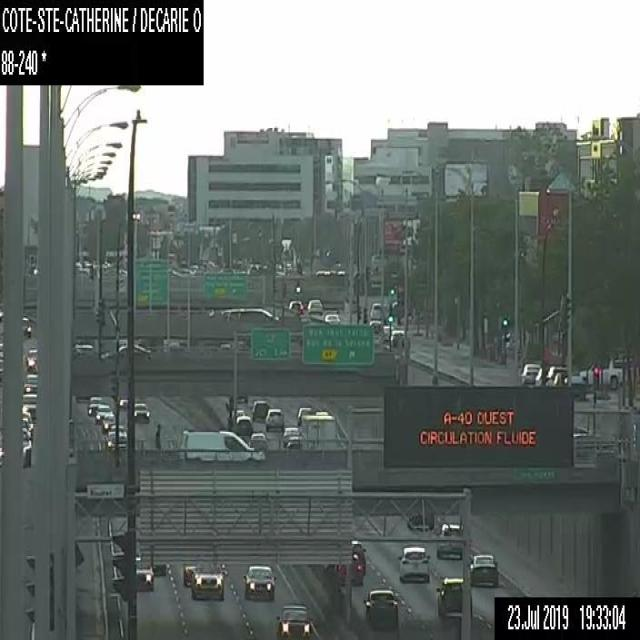pedestrian: (154, 423, 161, 448)
vehicle: (178, 430, 264, 460), (578, 356, 624, 390), (363, 588, 397, 632), (300, 413, 336, 449), (275, 603, 311, 639), (434, 574, 462, 618), (192, 563, 224, 601), (398, 545, 430, 581), (436, 518, 463, 560), (243, 564, 275, 599), (333, 553, 362, 587), (470, 552, 498, 587), (220, 306, 281, 322), (136, 561, 154, 592), (351, 540, 366, 575), (407, 510, 433, 529), (545, 365, 567, 386), (520, 362, 540, 383), (105, 430, 127, 449), (119, 342, 153, 354), (72, 342, 97, 358), (390, 329, 410, 349), (265, 408, 283, 430), (20, 428, 30, 467), (94, 404, 112, 424), (251, 399, 267, 420), (369, 302, 386, 321), (87, 396, 103, 416), (535, 366, 550, 387), (25, 347, 38, 371), (24, 374, 38, 395), (282, 427, 299, 444), (297, 406, 313, 424), (22, 411, 32, 439), (134, 402, 149, 420), (248, 432, 267, 446), (236, 416, 251, 432), (102, 414, 116, 430), (22, 403, 37, 417), (184, 564, 196, 581), (324, 313, 340, 325), (382, 325, 394, 340), (287, 437, 300, 450), (152, 564, 166, 576), (22, 316, 30, 336), (230, 409, 244, 420), (307, 299, 322, 309), (288, 300, 303, 310), (369, 320, 381, 332), (22, 418, 29, 438), (118, 395, 126, 408), (110, 424, 122, 430)
